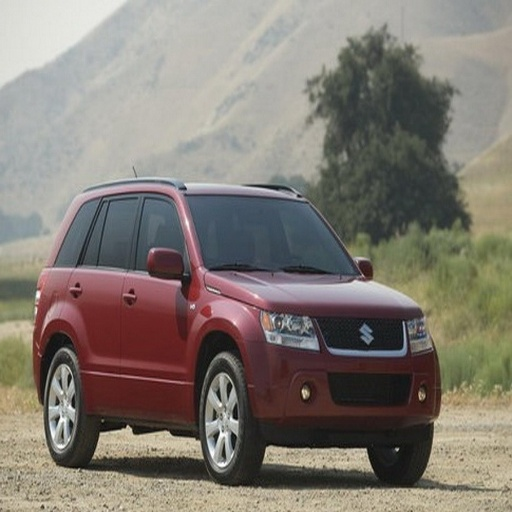front_bumper: (248, 317, 440, 438)
front_right_door: (122, 191, 191, 411)
front_right_light: (263, 312, 319, 351)
hood: (213, 273, 423, 318)
